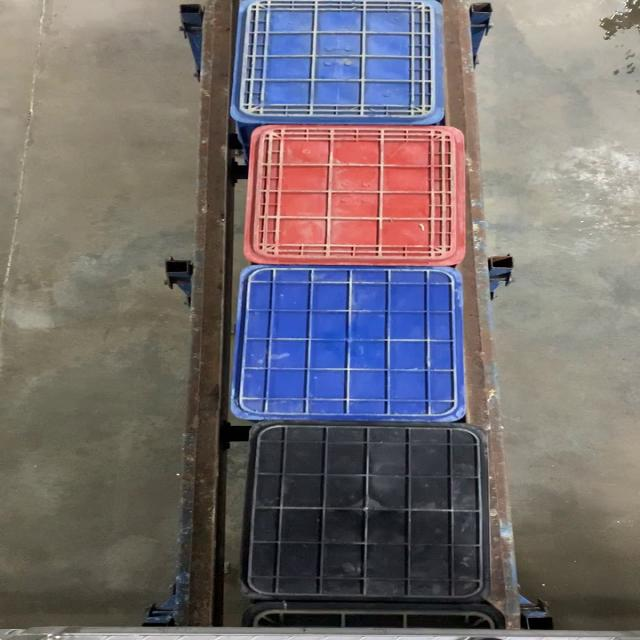Box: (237, 423, 490, 602), (231, 265, 464, 423), (244, 126, 466, 264), (230, 0, 444, 126)
